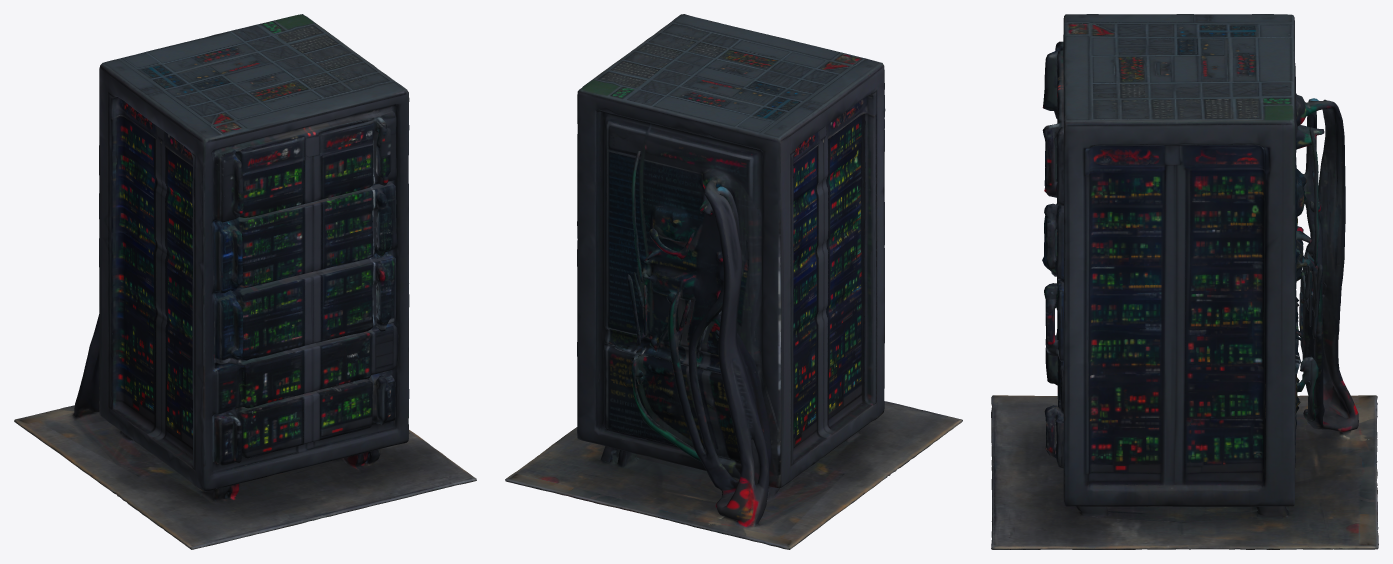
File: server.glb
3 renders of one model, left to right at view 1: azimuth 30°, elevation 25°; view 2: azimuth 150°, elevation 25°; view 3: azimuth 270°, elevation 25°, orthographic. The views are drawn at different scales.
Size of the model in its own units: 1.58 by 2.03 by 1.69.
1 material, 1 textured.
